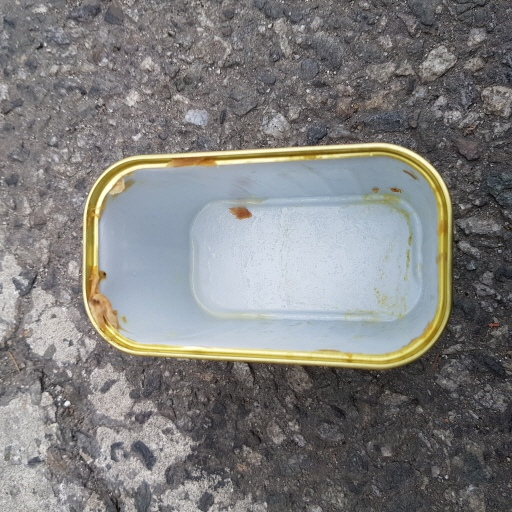Metal_2: (81, 141, 454, 370)
